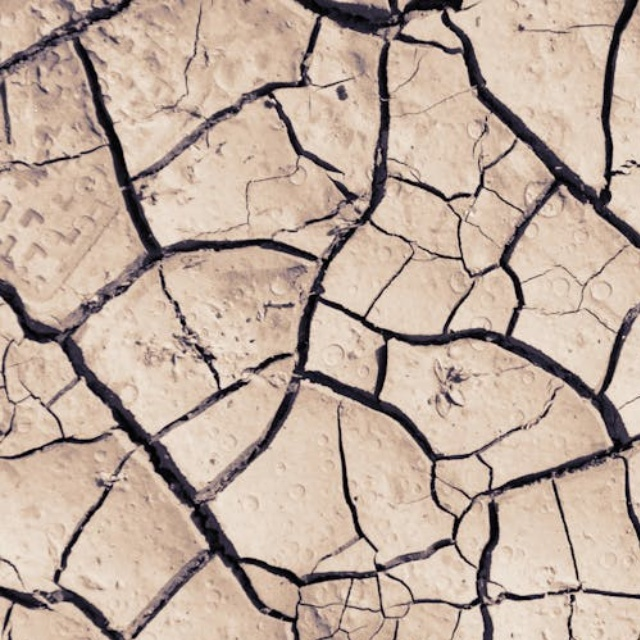深大裂缝: (0, 214, 246, 630)
网状裂隙: (223, 89, 640, 503), (253, 510, 545, 640)
